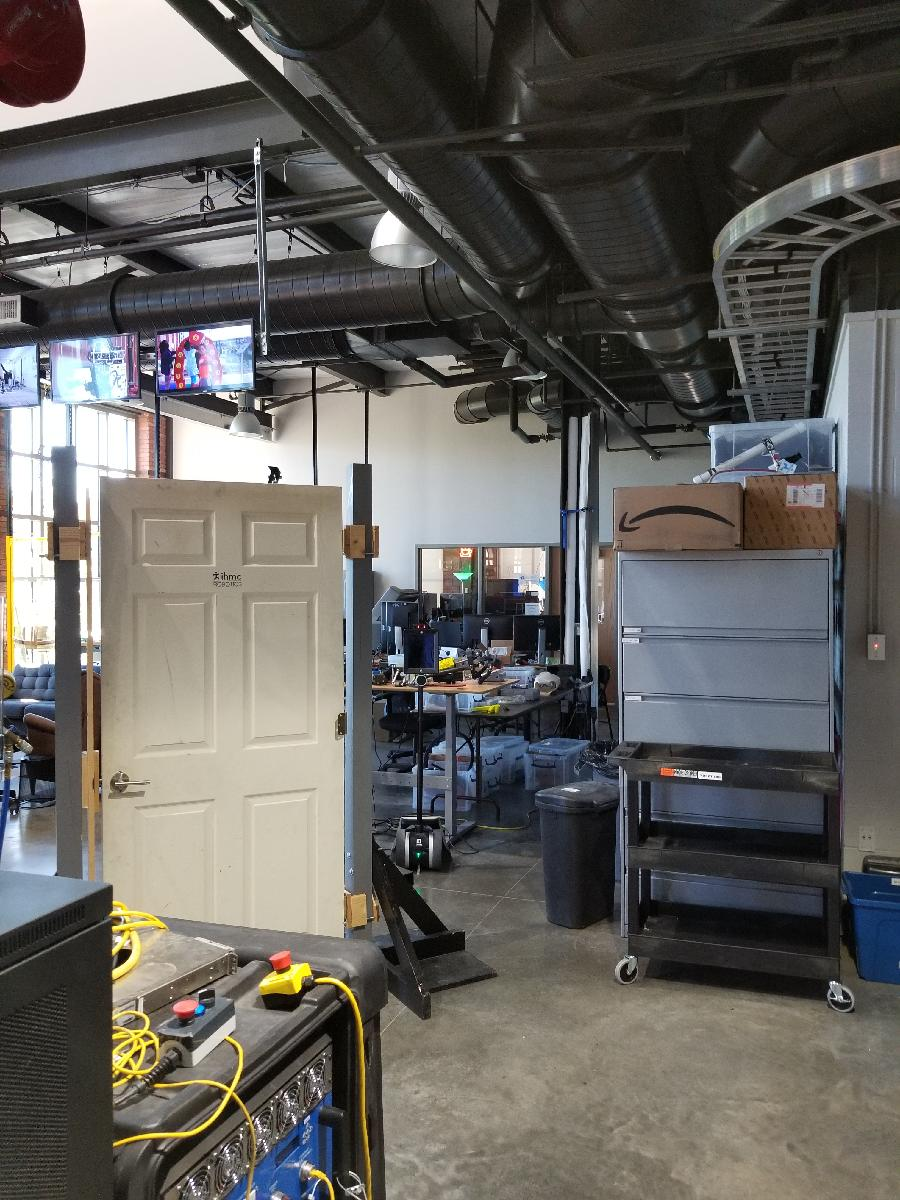door: (94, 467, 351, 987)
doorHandle: (112, 762, 151, 794)
